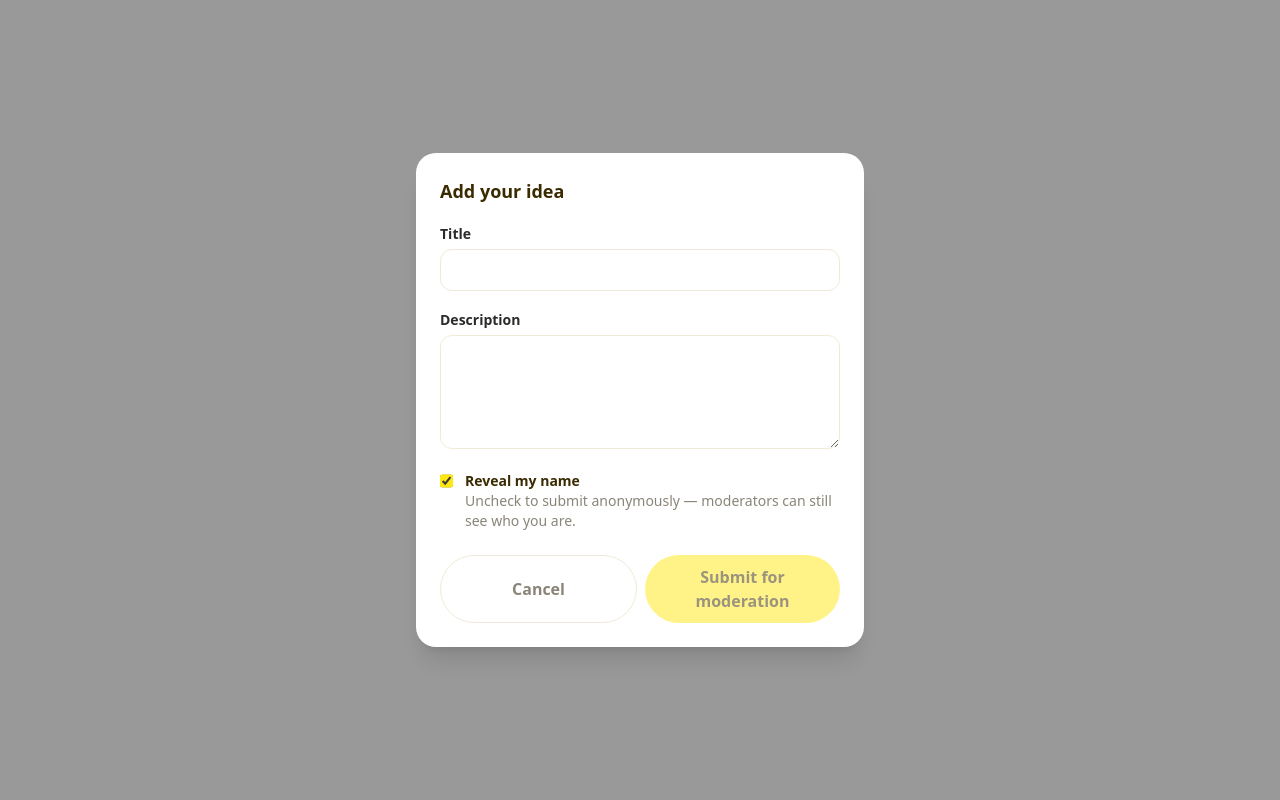
SubmitDialog › submits an idea with reveal-name on by default
The width and height of the screenshot is (1280, 800).
Type "Solar benches" into the field labelled "Title" at (640,270), box [440, 249, 840, 291]
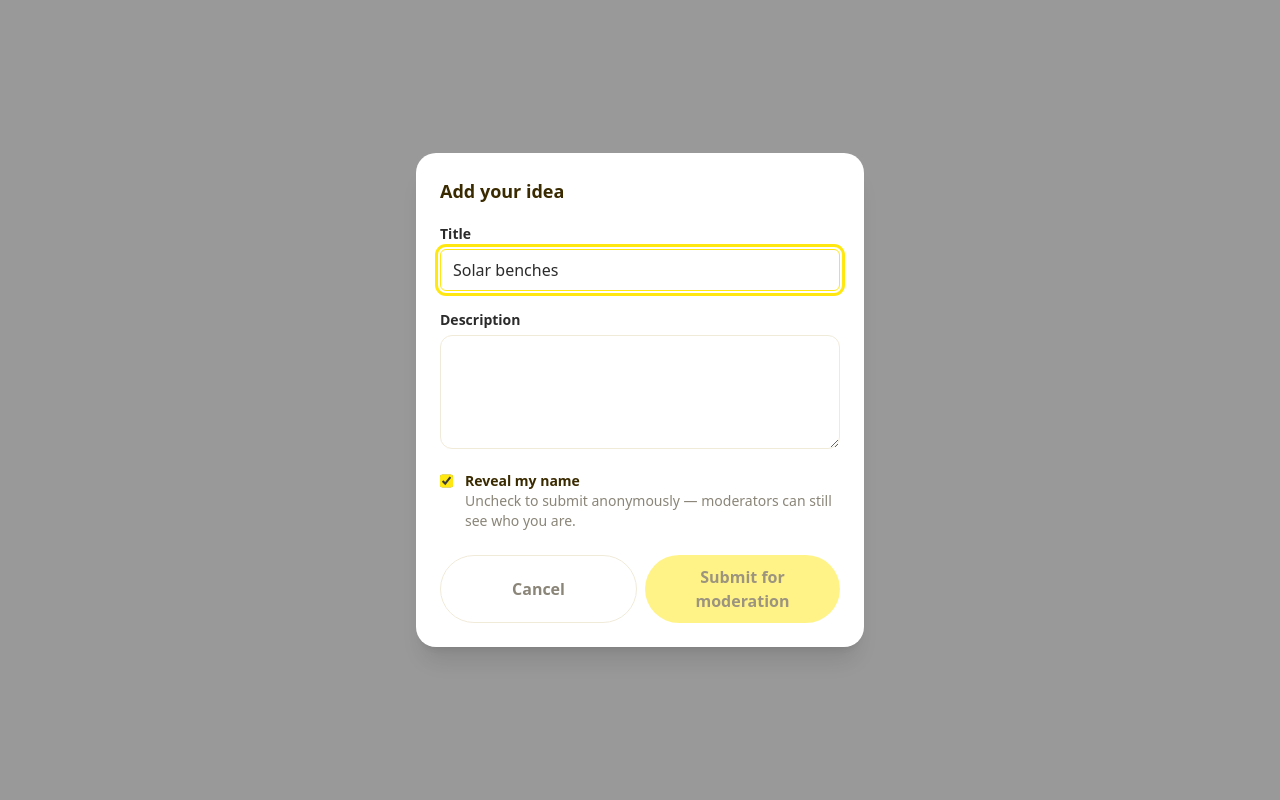
Type "Charge your phone in the sun" into the text box labelled "Description" at (640,392), box [440, 335, 840, 449]
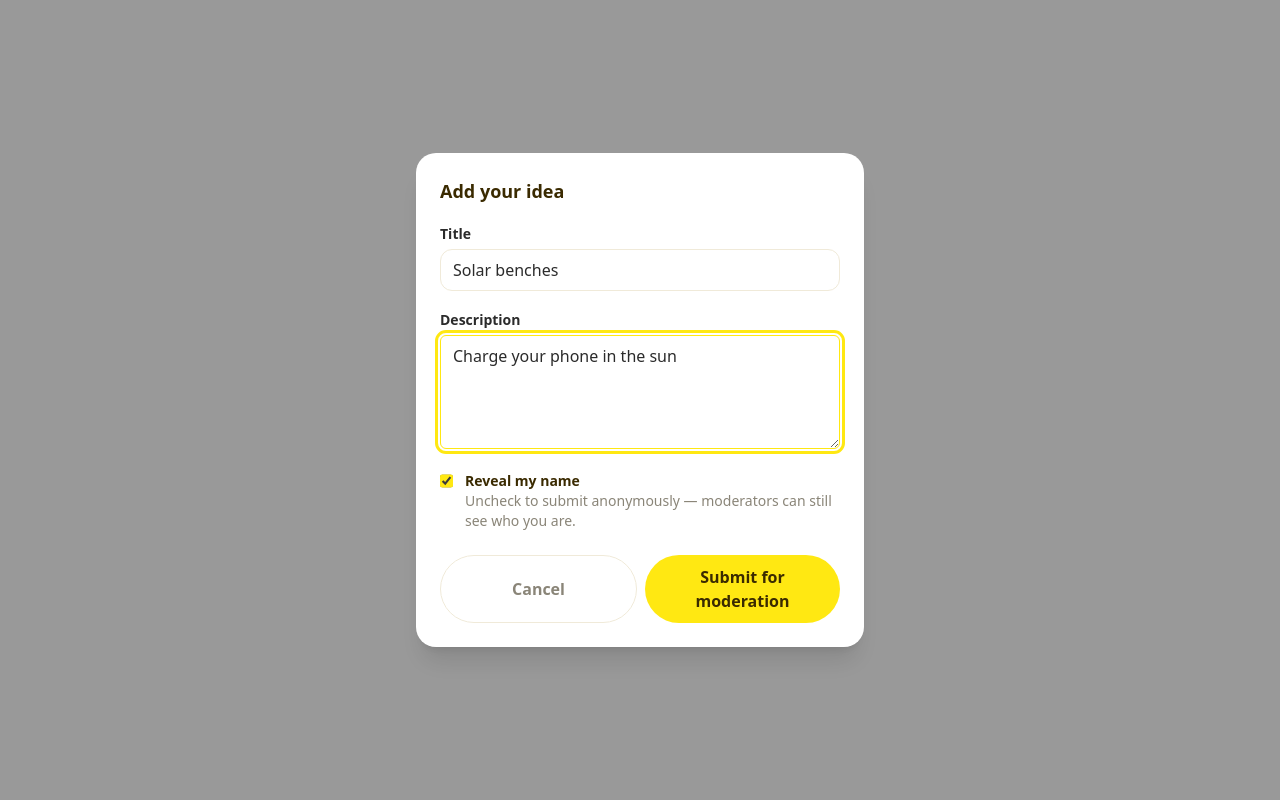
Click the button "Submit for moderation" at (742,589), box [645, 555, 840, 623]
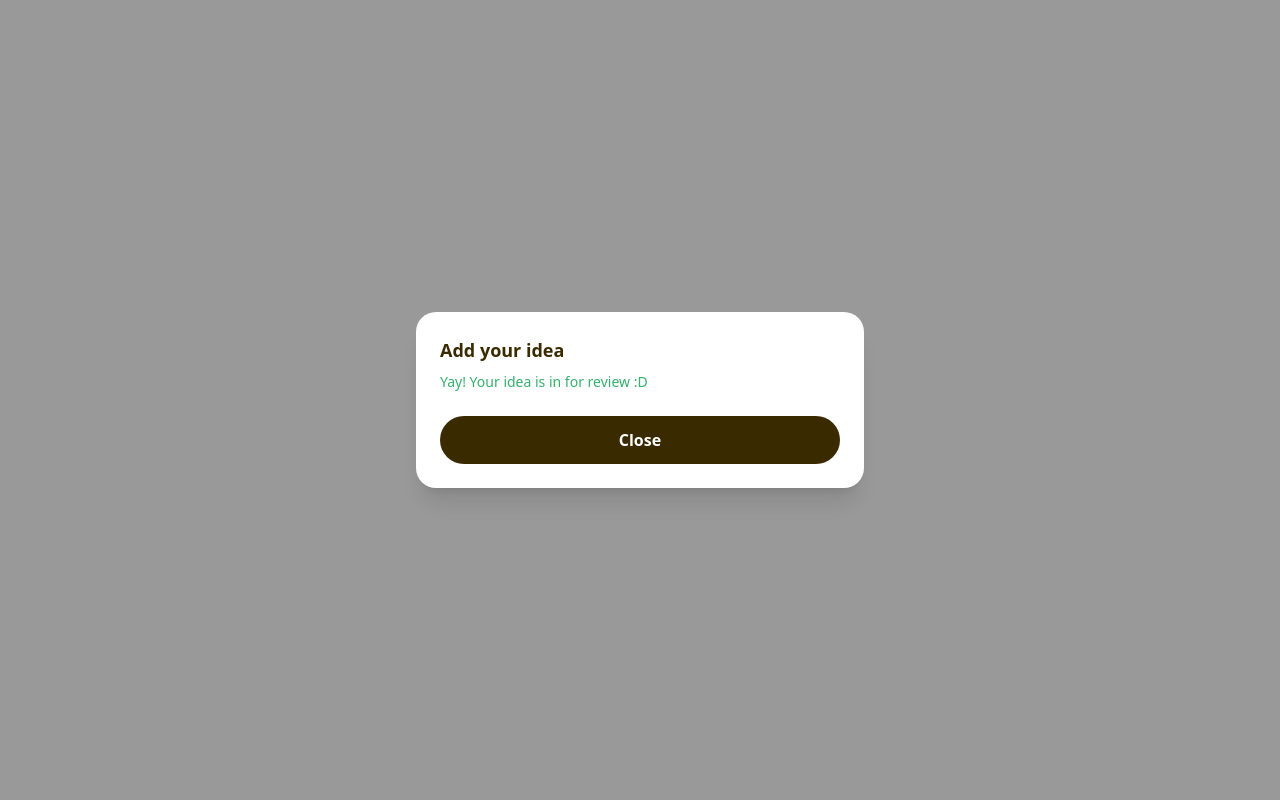
Now the text "Yay! Your idea is in for review :D" is shown, box [440, 372, 648, 391]
